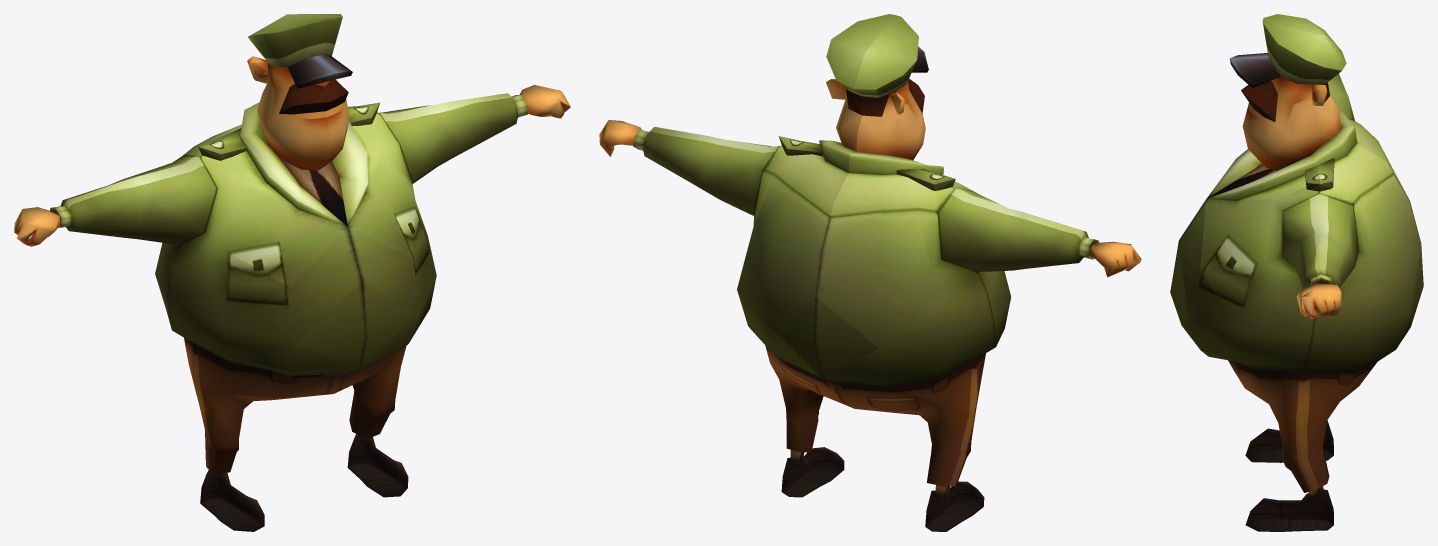
Rendered from inspector_subway_surfers.glb.
3 renders of one model, left to right at view 1: azimuth 30°, elevation 25°; view 2: azimuth 150°, elevation 25°; view 3: azimuth 270°, elevation 25°, orthographic. The views are drawn at different scales.
Visible parts, largest first — view 1: Object_2; view 2: Object_2; view 3: Object_2.
Part boxes in pixels (x1,y1,x2,y2): Object_2: (14, 14, 570, 531); Object_2: (599, 14, 1141, 531); Object_2: (1170, 14, 1423, 531).
Bounding box in the file's own units: 15.55 × 13.05 × 6.38.
1 material, 1 textured.
